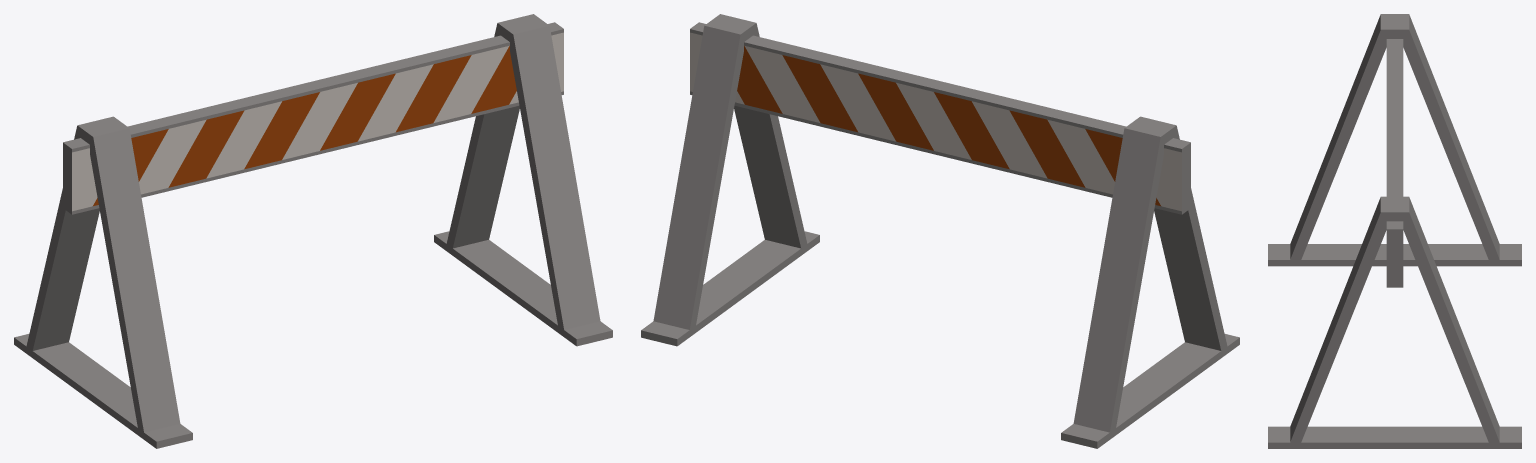
The model's file is quaternius-zombie-apocalypse-kit-march-trafficbarrier-2.glb.
3 views of the same model, side by side, from view 1: azimuth 30°, elevation 25°; view 2: azimuth 150°, elevation 25°; view 3: azimuth 270°, elevation 25° (orthographic). The views are drawn at different scales.
Visible parts, largest first — view 1: TrafficBarrier_2; view 2: TrafficBarrier_2; view 3: TrafficBarrier_2.
Part boxes in pixels (<box>): TrafficBarrier_2: <box>14,14,612,448</box>; TrafficBarrier_2: <box>641,14,1239,448</box>; TrafficBarrier_2: <box>1268,14,1521,448</box>.
Bounding box in the file's own units: 1.56 × 0.8023 × 0.7801.
Materials: 1 (1 with a texture image).
